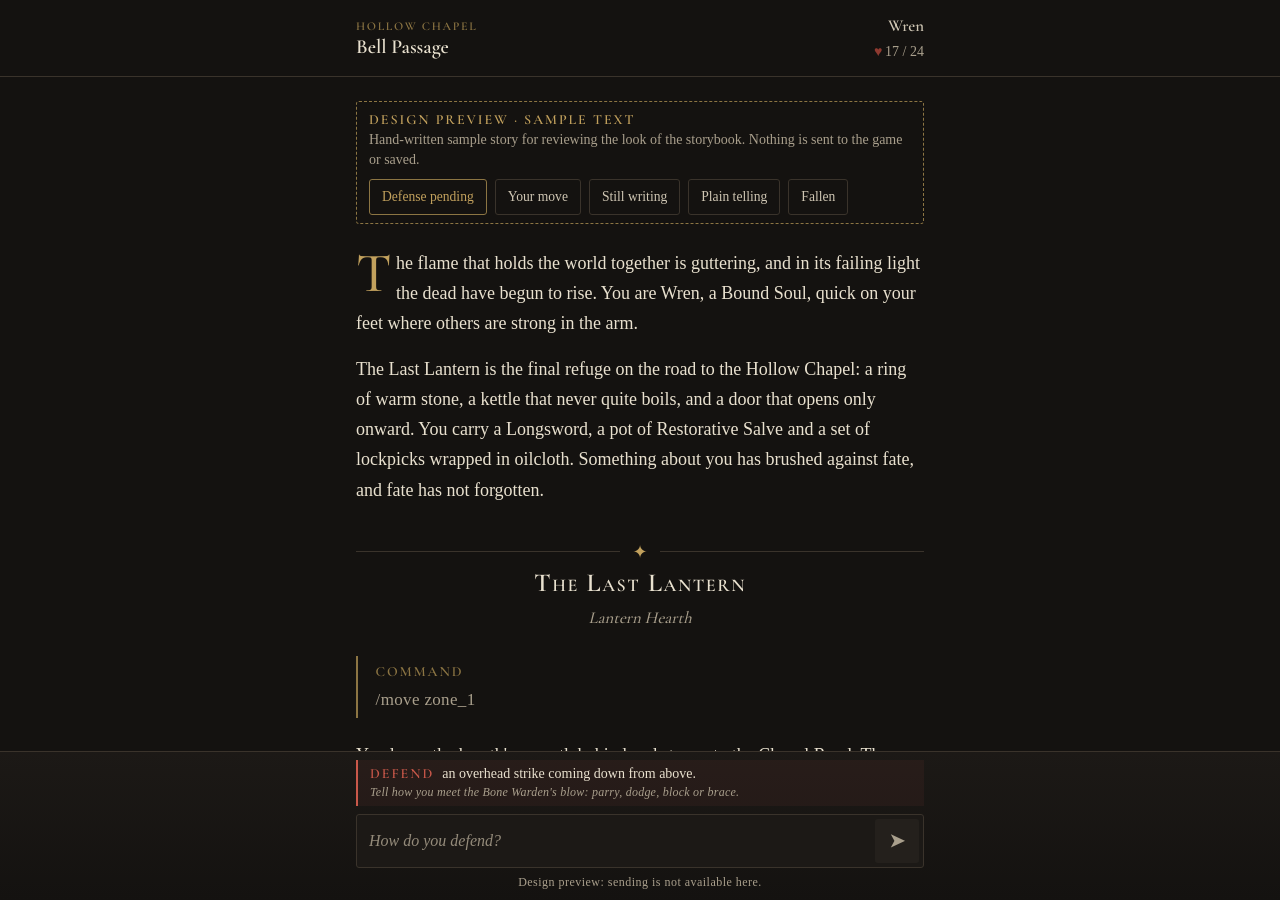
Scenario: the design preview › keeps every sample state consistent with the game rules
This screenshot has width=1280, height=900.
# Defending only: the attack is consumed and nothing new is pending.
Click the button "Your move" at (538, 197), box [495, 179, 581, 215]
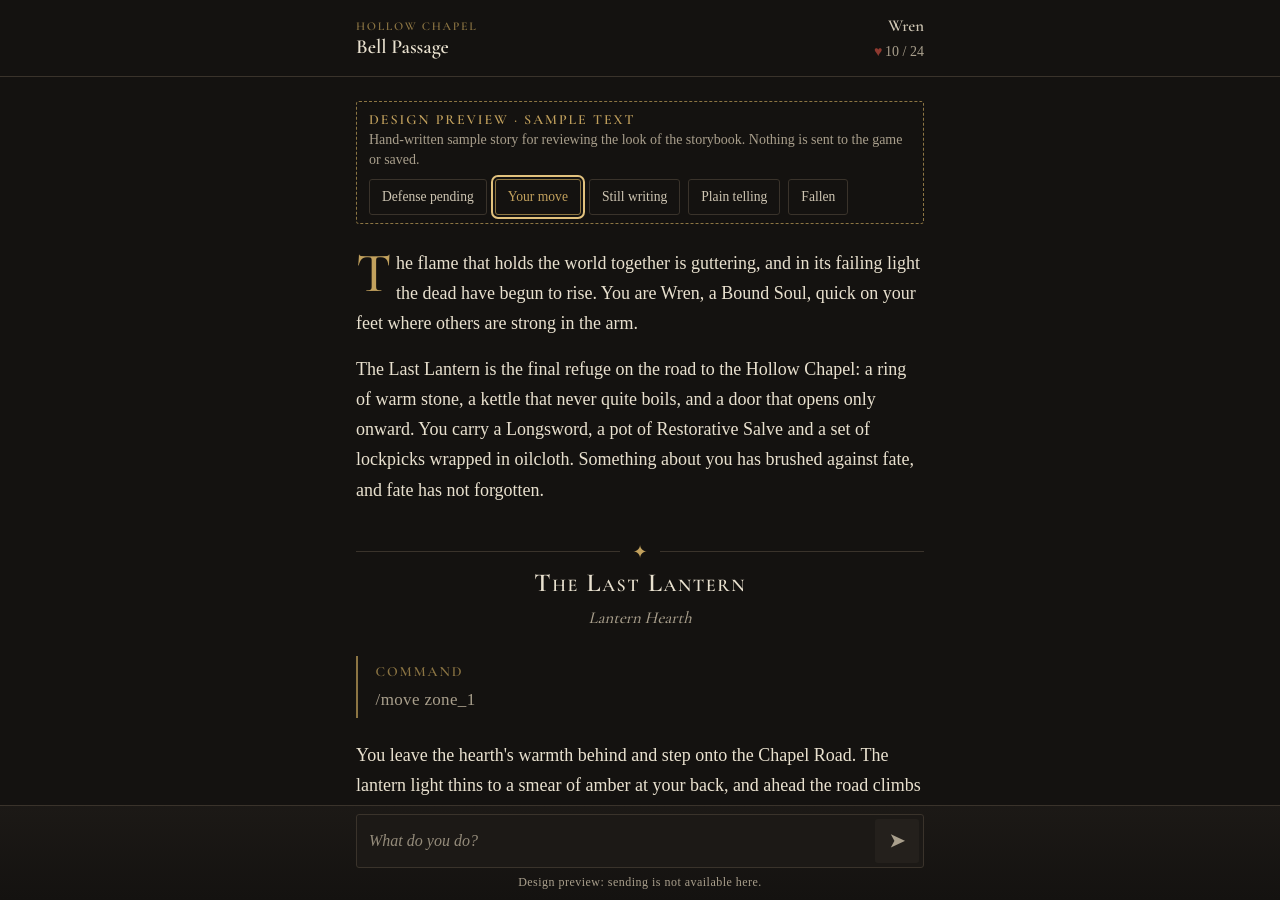
Check: the message is gone
Click the button "Plain telling" at (734, 197), box [688, 179, 780, 215]
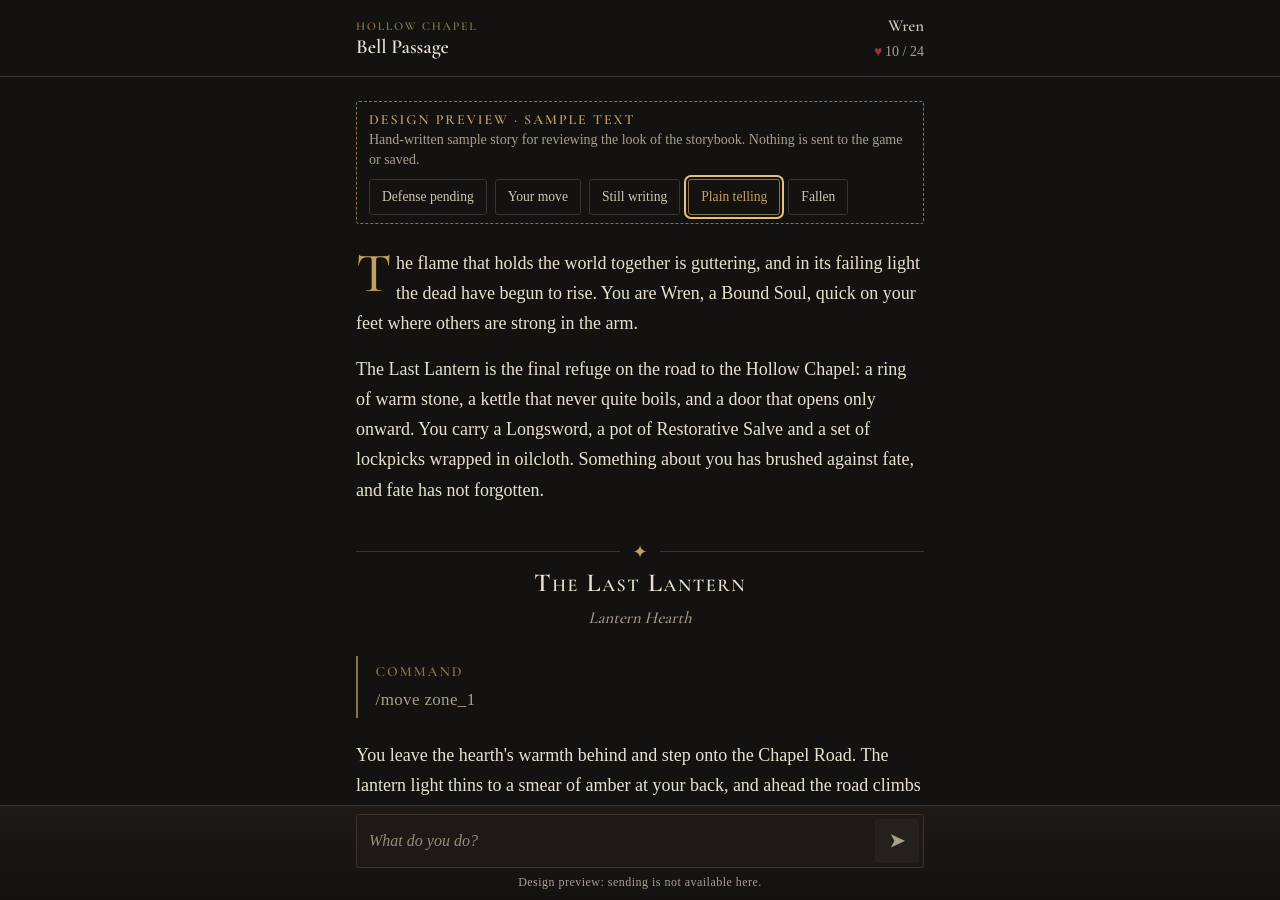
# Death follows a new attack that was answered with a defense.
Click the button "Fallen" at (818, 197), box [788, 179, 848, 215]
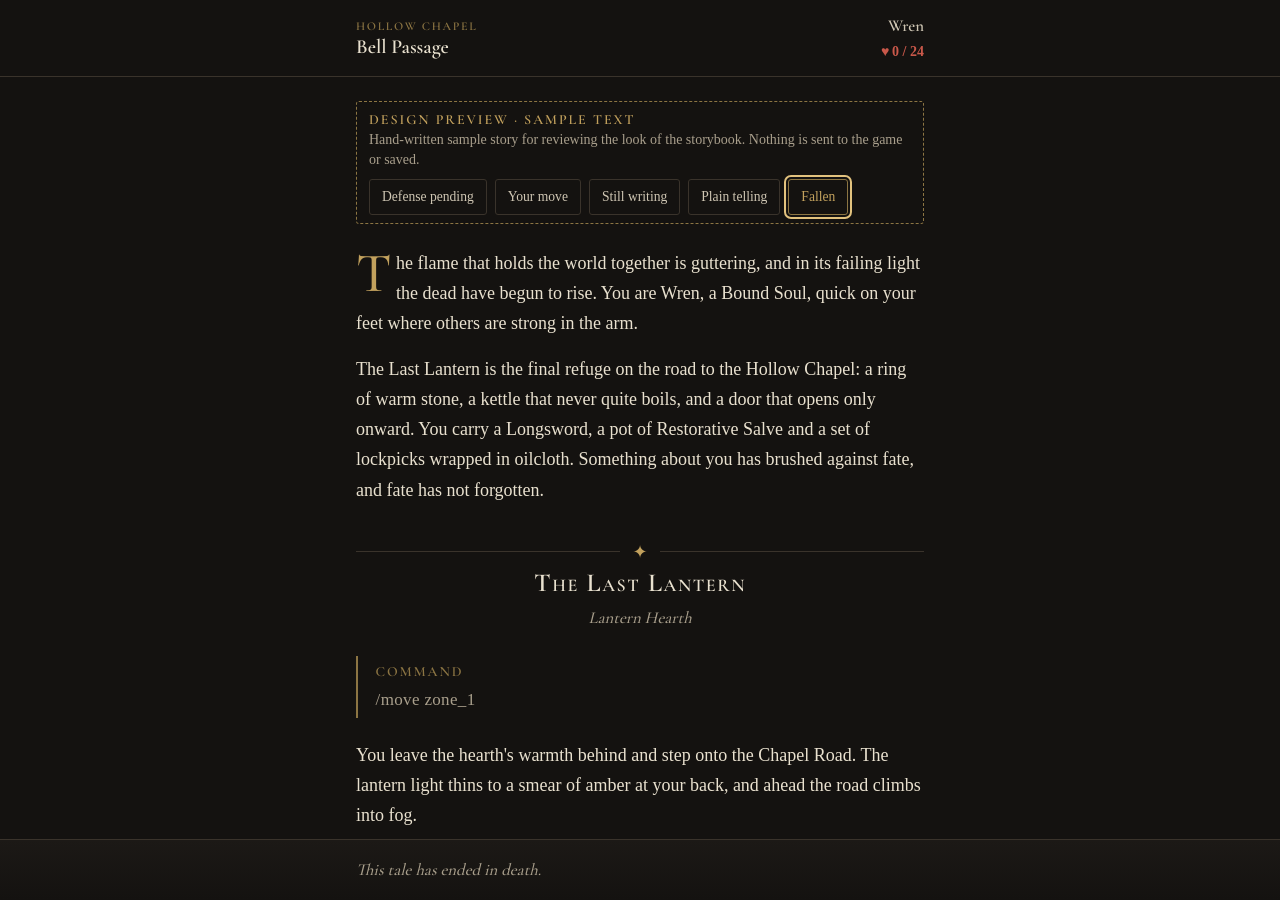
# No injuries are presented as mechanics: only HP is lasting harm.
Click the button with aria-label "Character details" at (902, 38), box [881, 8, 924, 68]
(page scrolled)
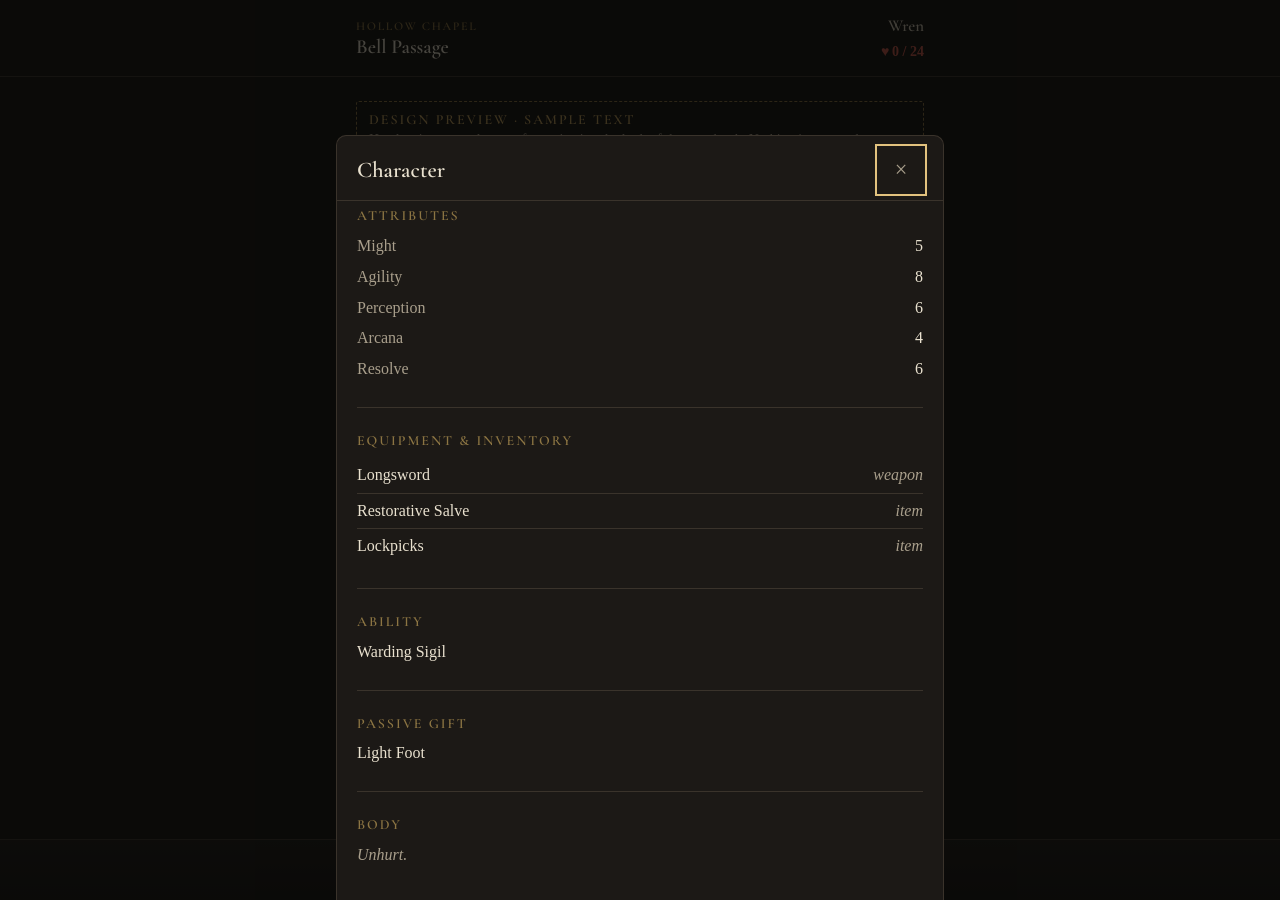
Check: the text "Unhurt." is shown, box [357, 846, 407, 862]
